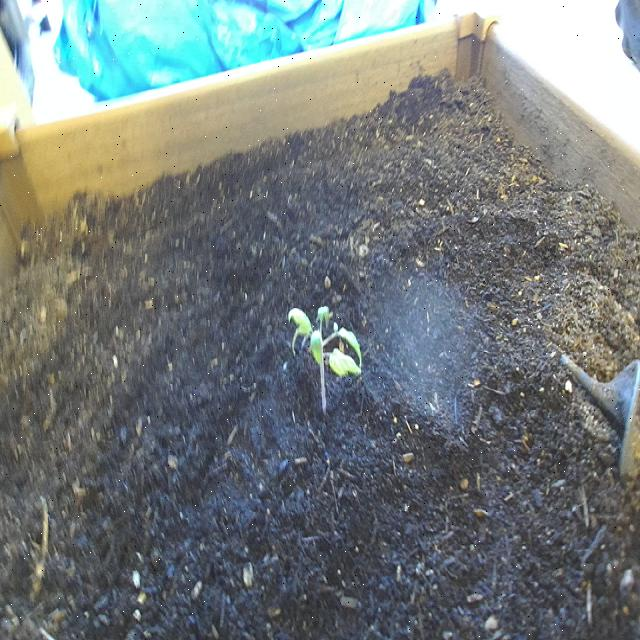Healthy: (285, 296, 366, 422)
